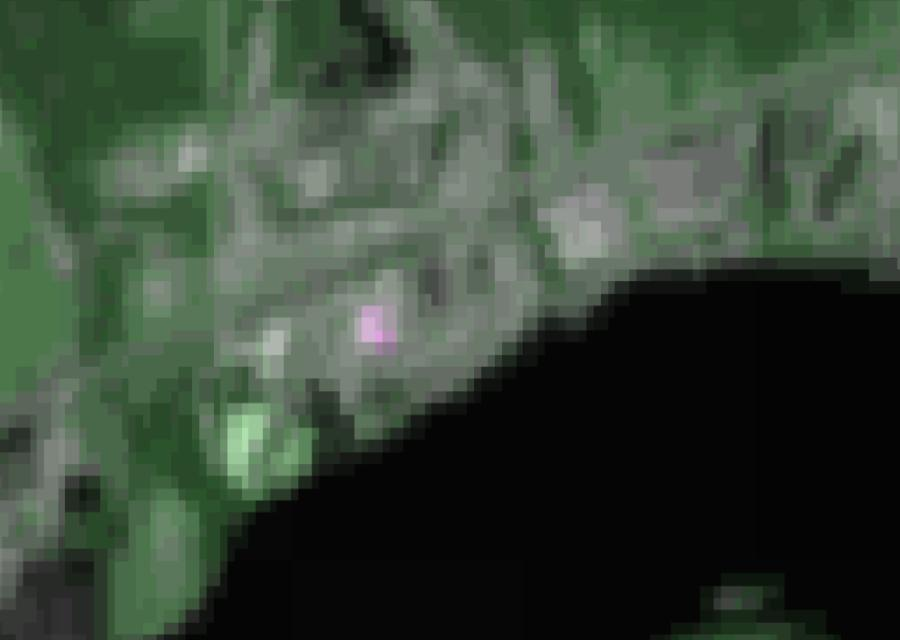Potential Lime Manufacturing Facility: (367, 310, 395, 356)
